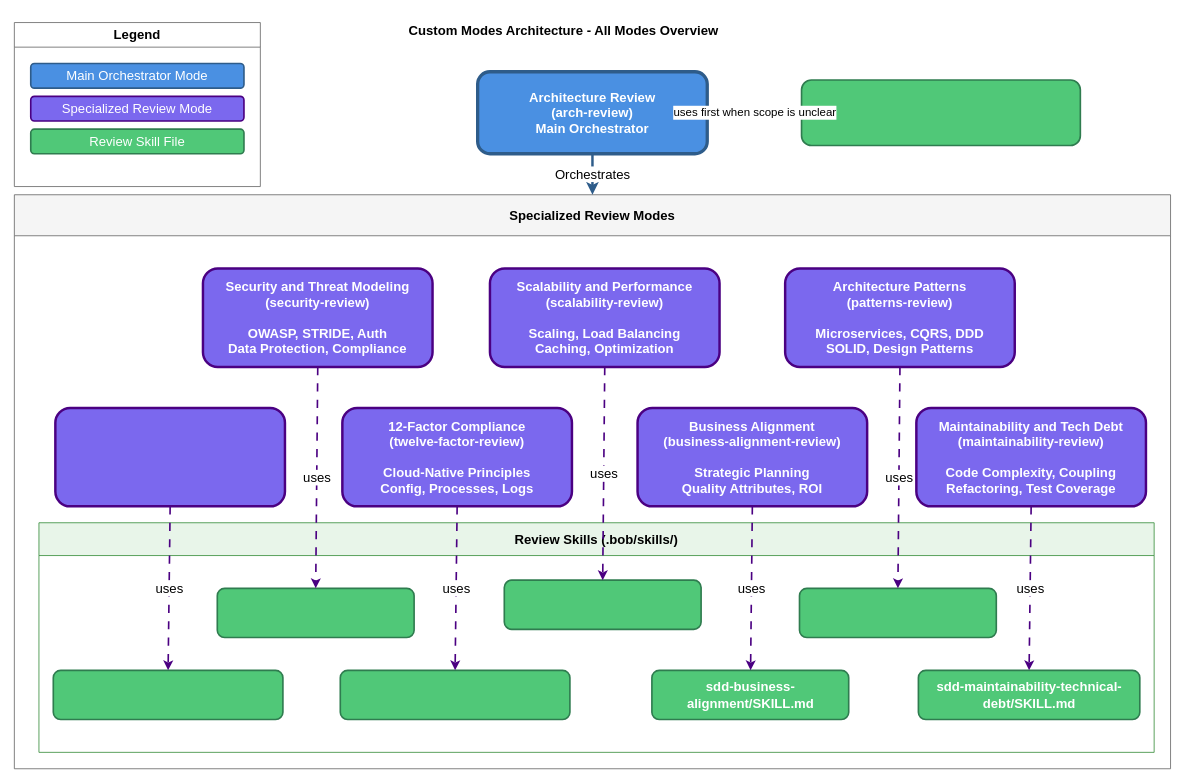
Some shapes in this 1185 by 783 pixel diagram are drawn without their labels. The shapes that lost their labels are listed below. From the top down, each one's centre as x and y in pixels, then its label:
At point 940,112: "sdd-sdlc-discovery-gap-analysis/SKILL.md (Grill Me scope clarification)".
At point 170,456: "Documentation Review (documentation-review) Docs, Notices Provenance Evidence".
At point 315,612: "sdd-security-threat-modeling/SKILL.md".
At point 602,604: "sdd-scalability-performance/SKILL.md".
At point 897,612: "sdd-architecture-patterns/SKILL.md".
At point 167,694: "sdd-documentation-review/SKILL.md".
At point 454,694: "sdd-twelve-factor-compliance/SKILL.md".
